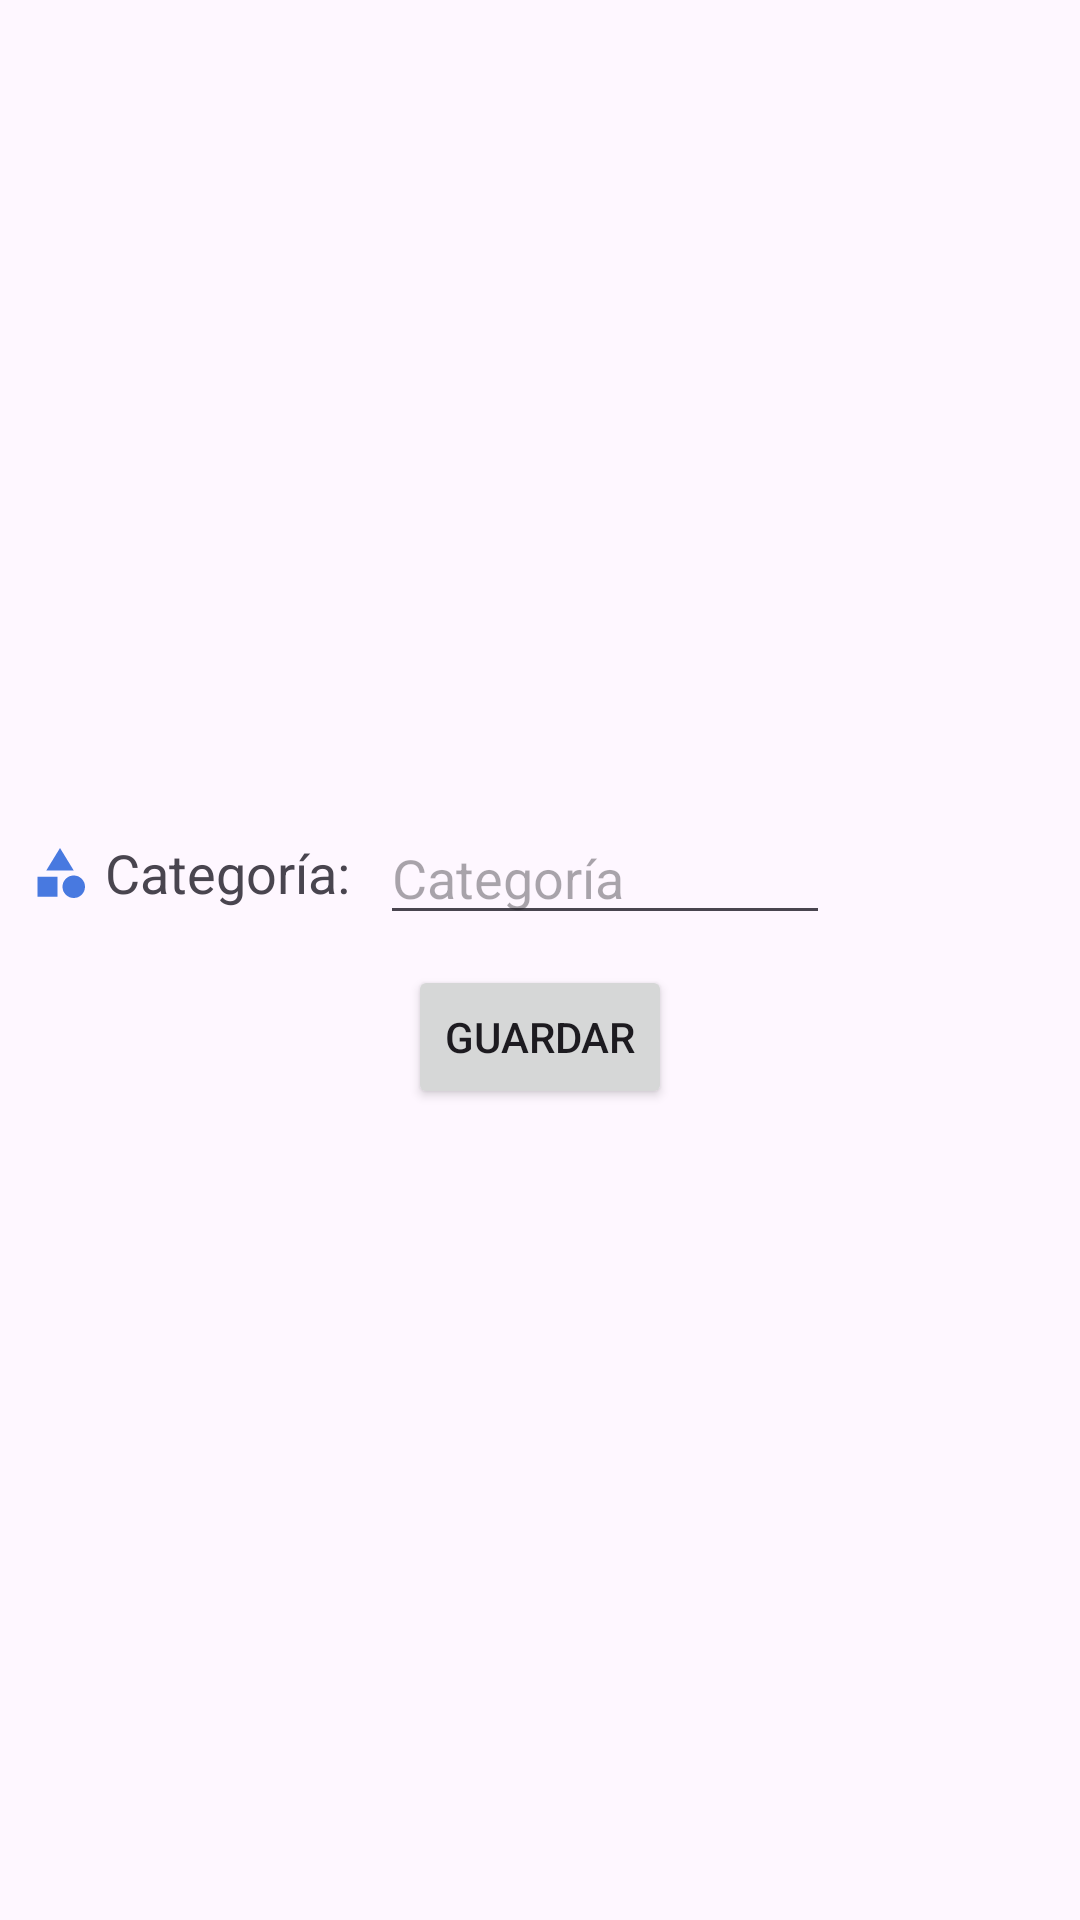

Named icons in this screenshot (1080 × 1920) and their centers, [x,y]:
categoria detalle: [61,873]
